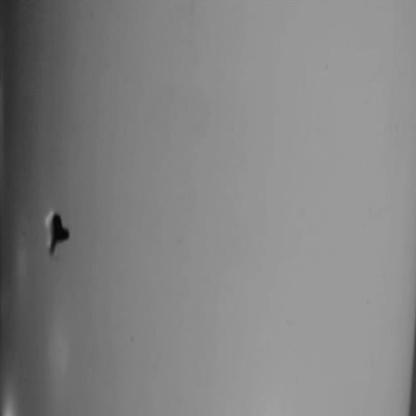kongdong: (33, 193, 74, 262)
